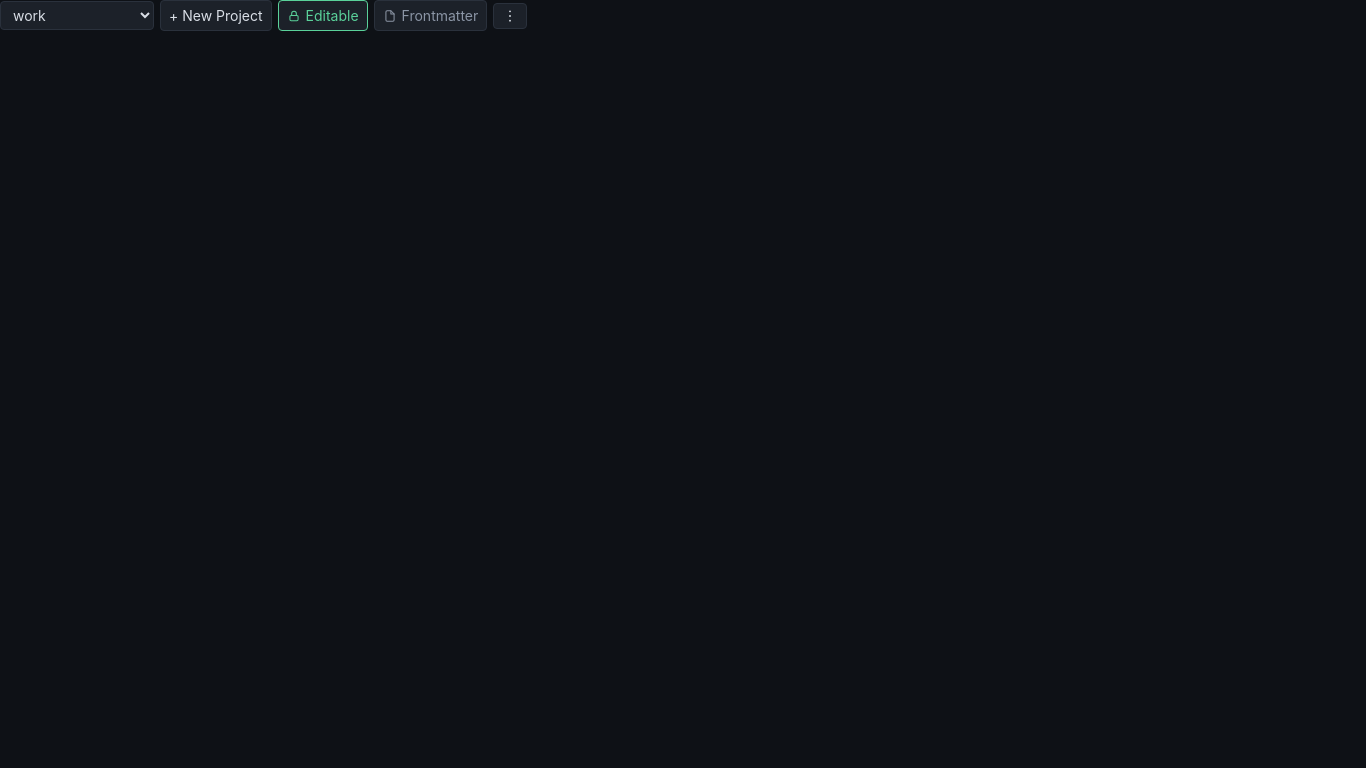
Test: ProjectSwitcher delete dialog › says a linked project loses only its link, and its files are kept (#87)
Click the button named "Project actions" at (510, 16), box [493, 2, 527, 28]
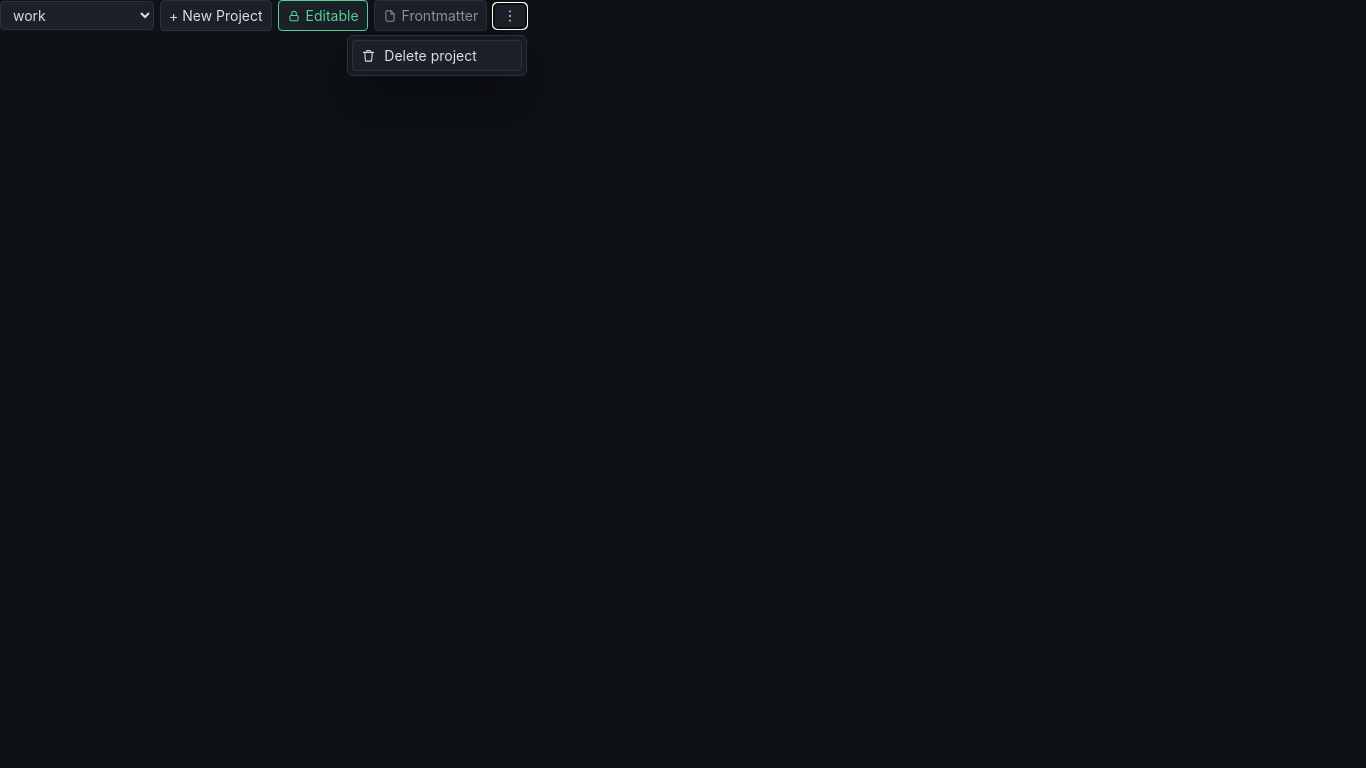
Click the menu item "Delete project" at (437, 55), box [352, 40, 522, 70]
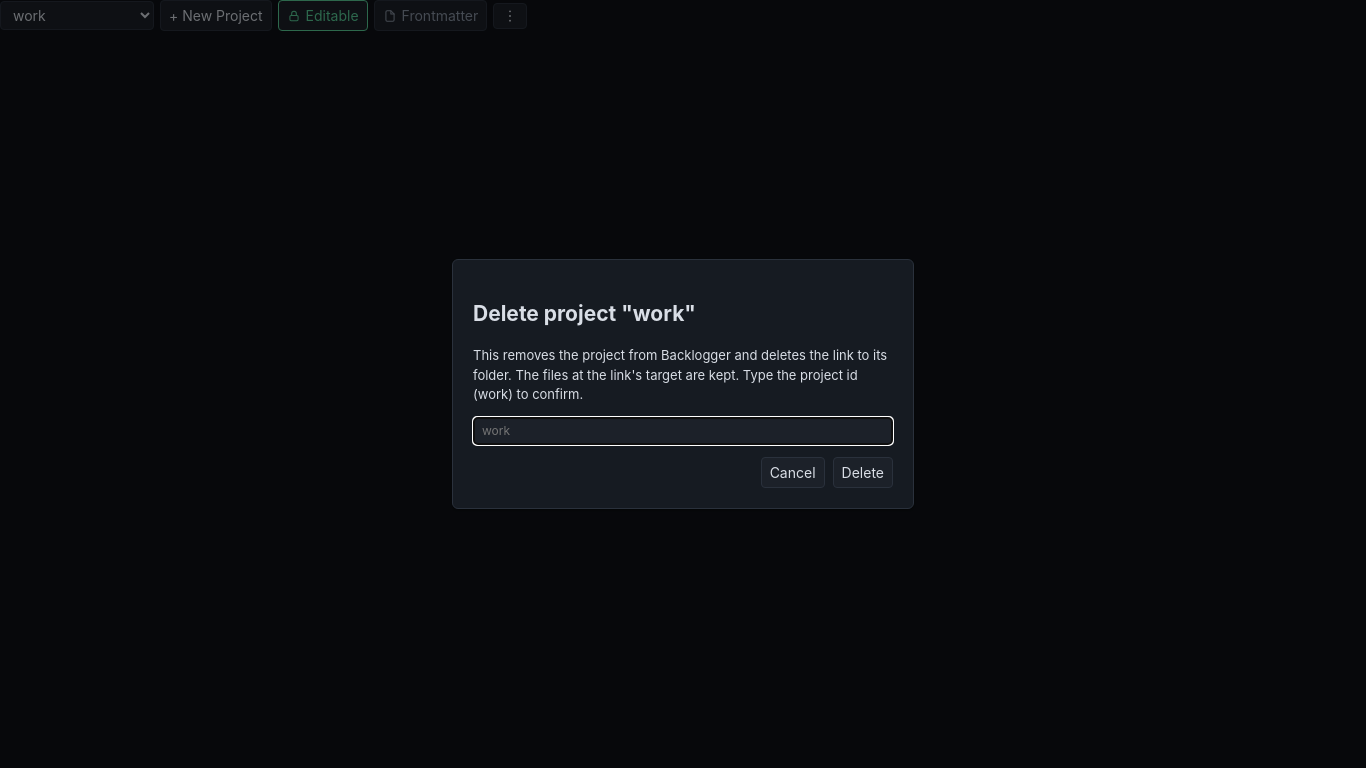
Result: the dialog shows "deletes the link to its folder" at [473, 347, 891, 402]
Result: the dialog shows "The files at the link's target are kept." at [473, 347, 891, 402]
